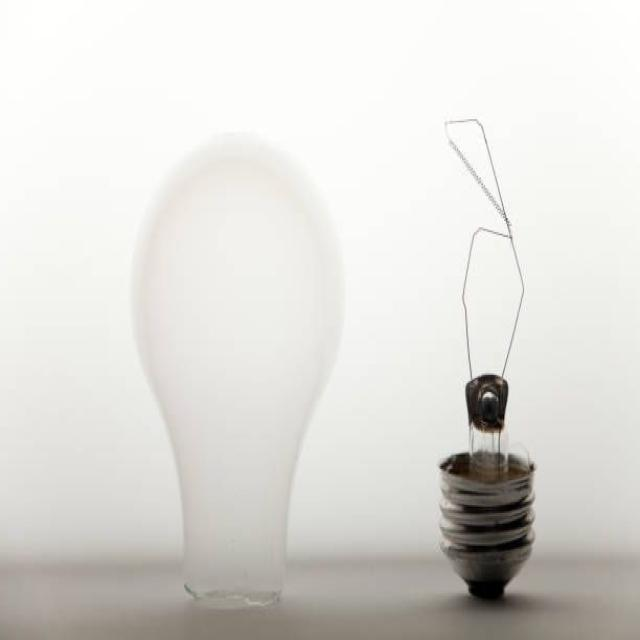electronic: (129, 127, 345, 610), (436, 115, 537, 599)
